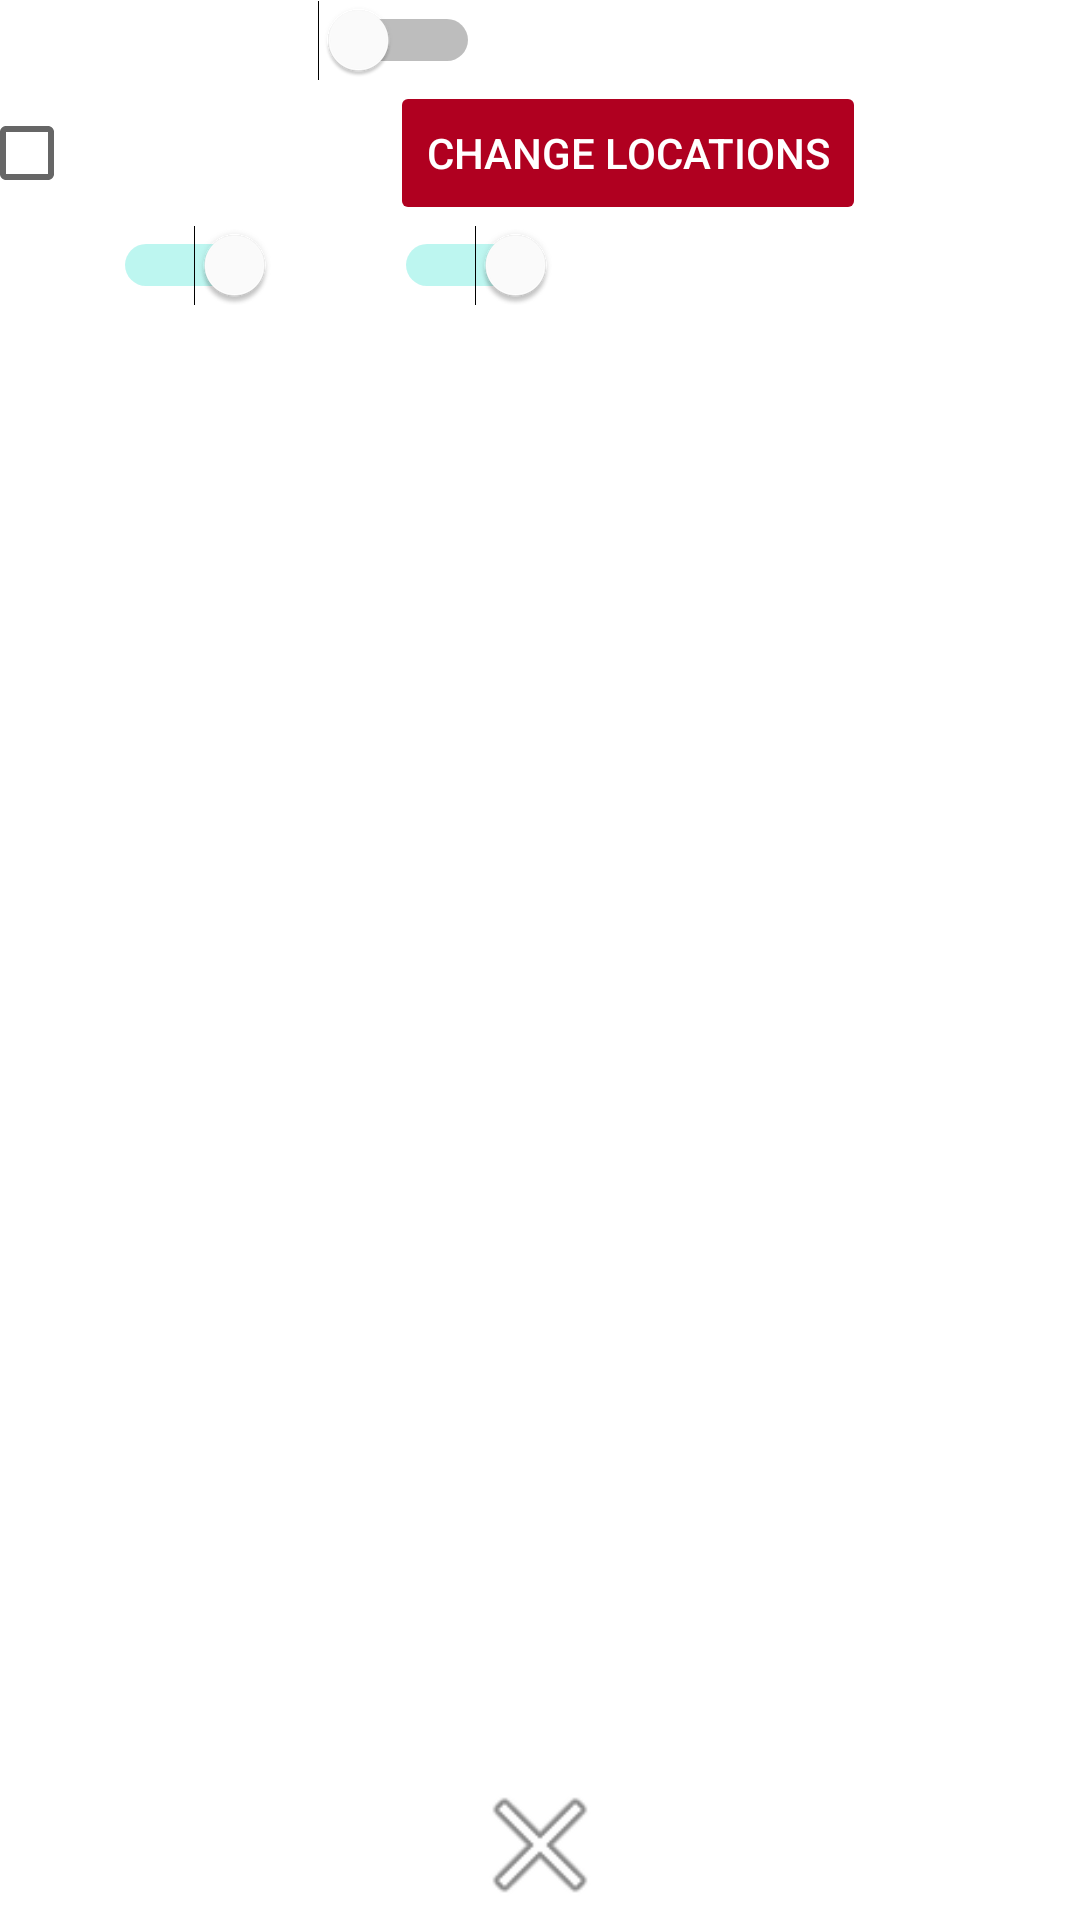

Screen size 1080 × 1920. Icon name, then its box in pixels as (x1, y1, x2, y2):
Closing Button: (493, 1798, 587, 1892)
